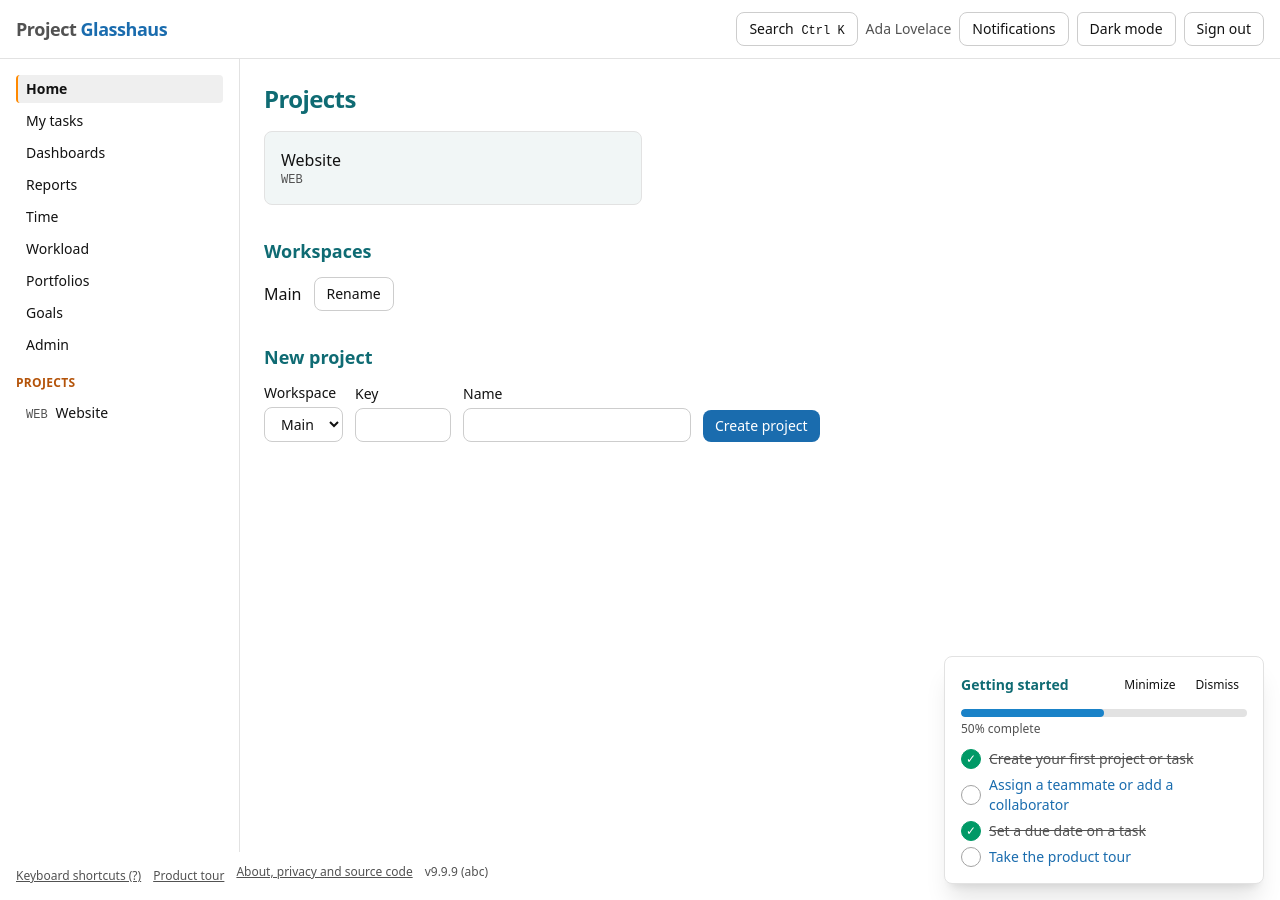
Test case: getting-started checklist › shows progress, minimizes to a pill and can be dismissed for good
The width and height of the screenshot is (1280, 900).
Expected: the text "50% complete" is shown, [961,720,1040,737]
What coordinates should you click on to do the following:
click the button "Minimize"
I would click on:
 (1150, 685)
Its box is [1116,673,1184,697].
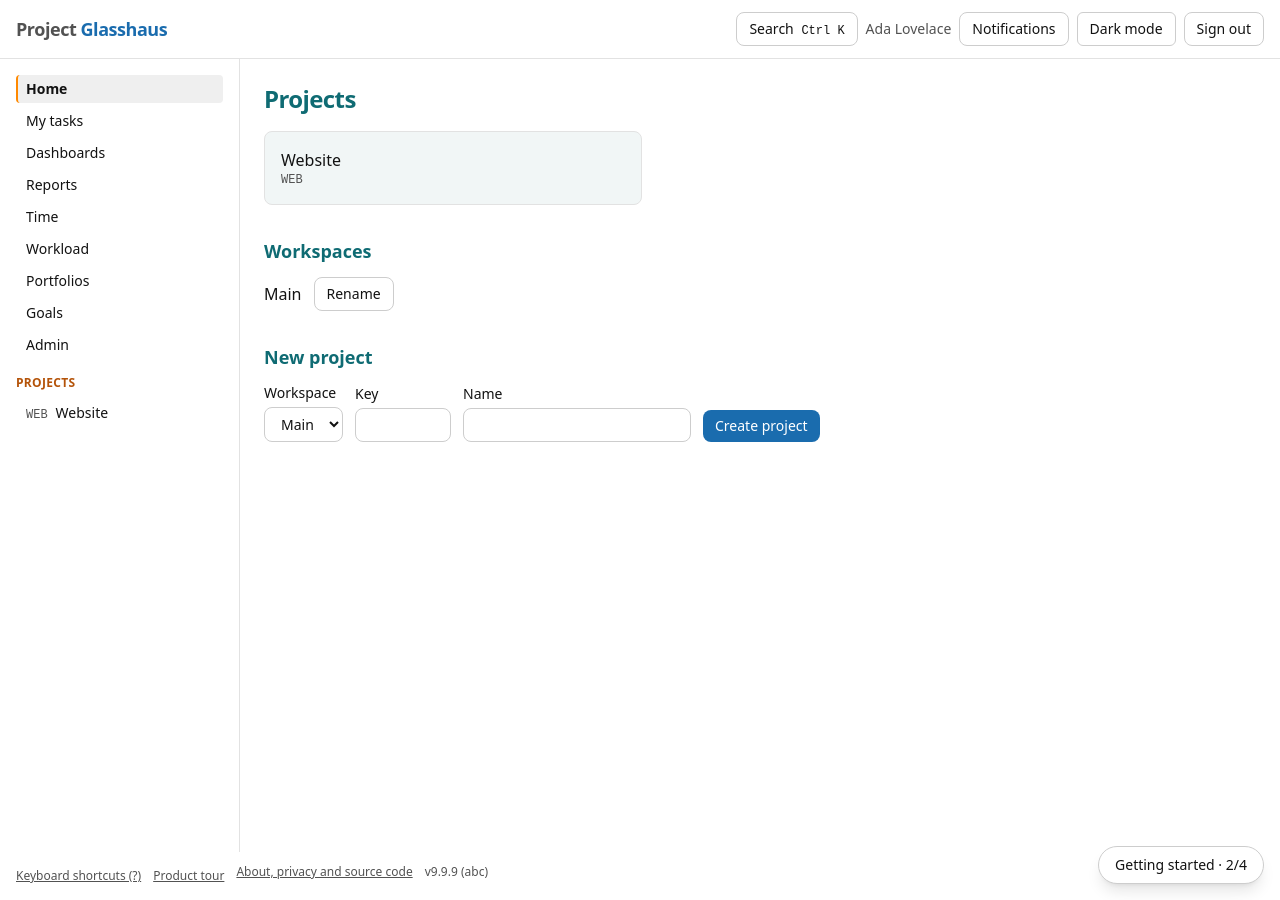
What coordinates should you click on to do the following:
click the button "Getting started · 2/4"
I would click on:
 (1181, 865)
Its box is [1098,846,1264,884].
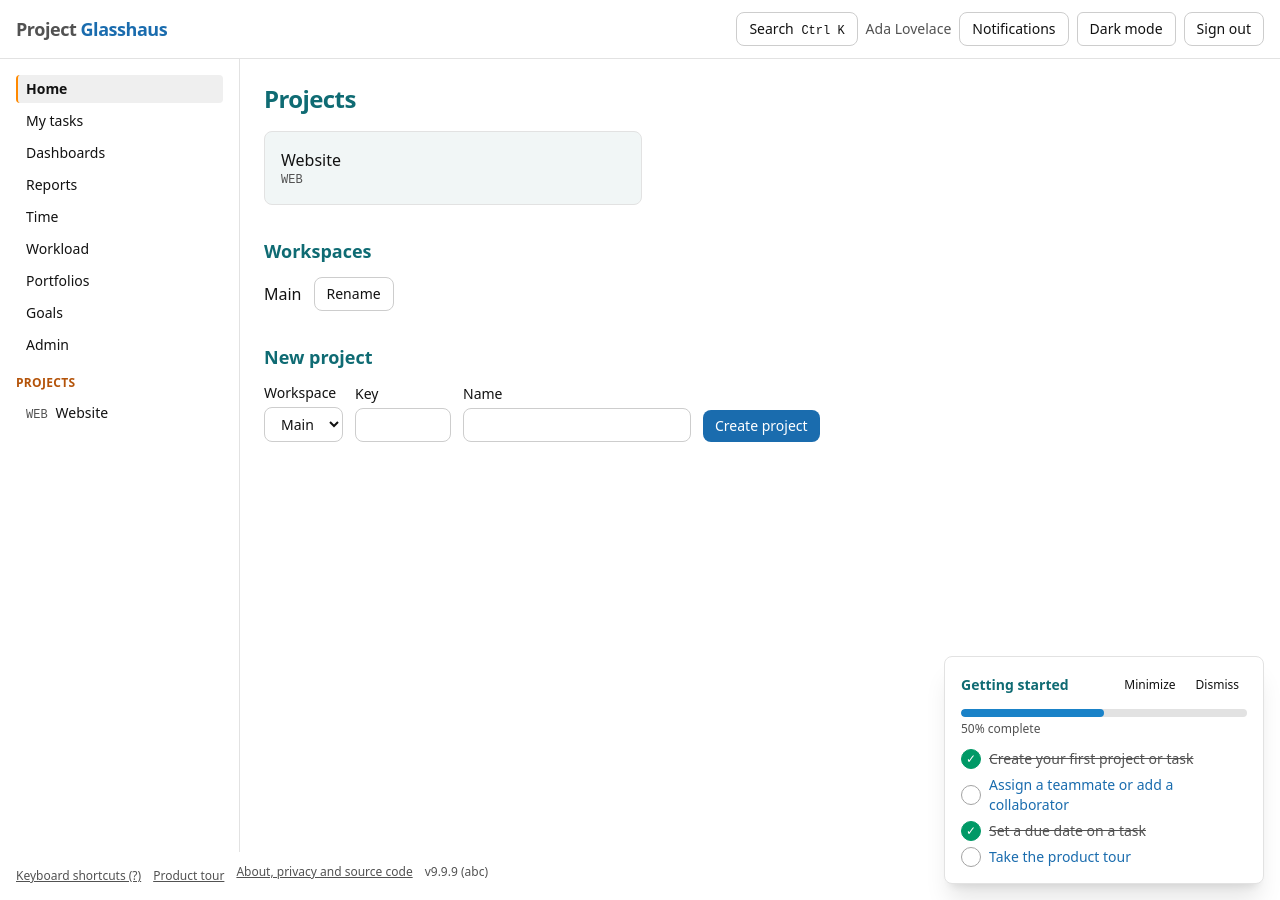
What coordinates should you click on to do the following:
click the button "Dismiss"
I would click on:
 (1217, 685)
Its box is [1188,673,1247,697].
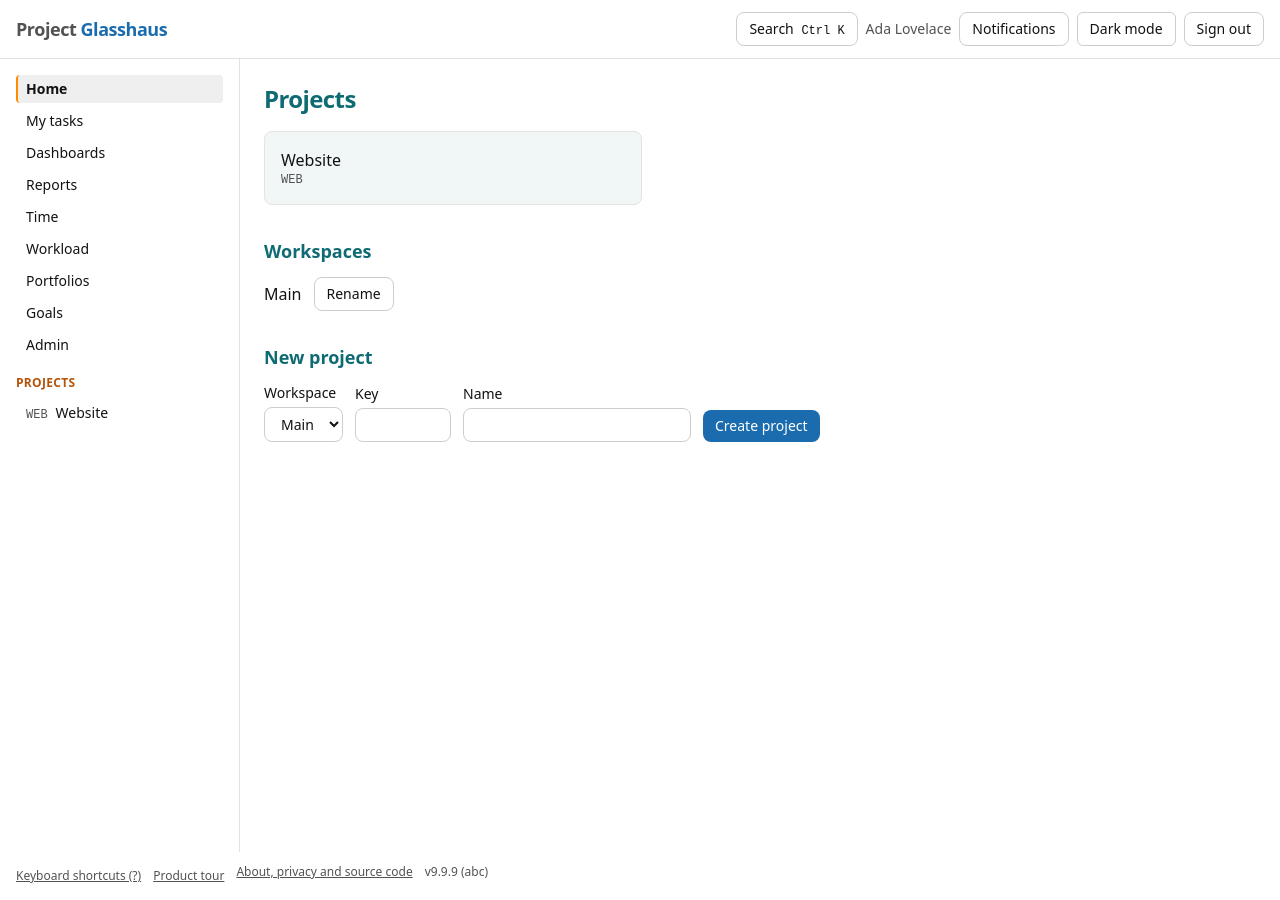
Now the heading "Getting started" is gone
